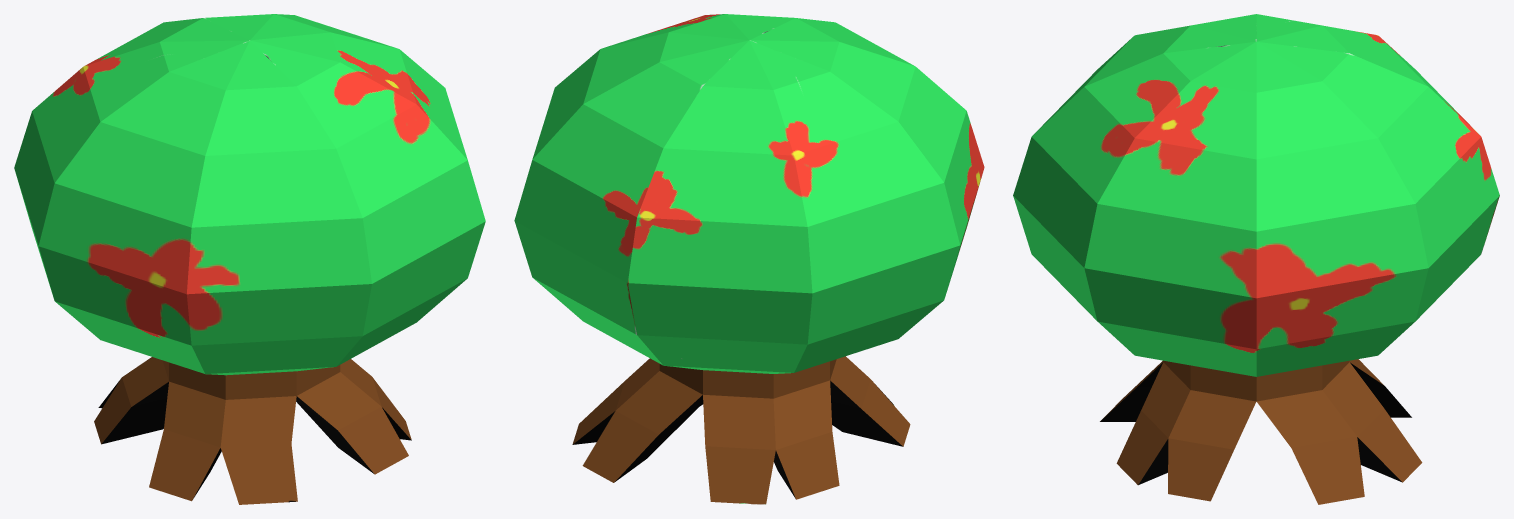
File: bush.fbx
3 views of the same model, side by side, from view 1: azimuth 30°, elevation 25°; view 2: azimuth 150°, elevation 25°; view 3: azimuth 270°, elevation 25° (orthographic).
Parts seen in each view (by area): view 1: pSphere1; view 2: pSphere1; view 3: pSphere1.
Part boxes in pixels (box(x1,y1,x2,y2)): pSphere1: box(14, 14, 485, 504); pSphere1: box(514, 14, 984, 504); pSphere1: box(1013, 14, 1499, 504).
Bounding box in the file's own units: 563 × 504 × 563.
Materials: 1 (1 with a texture image).
